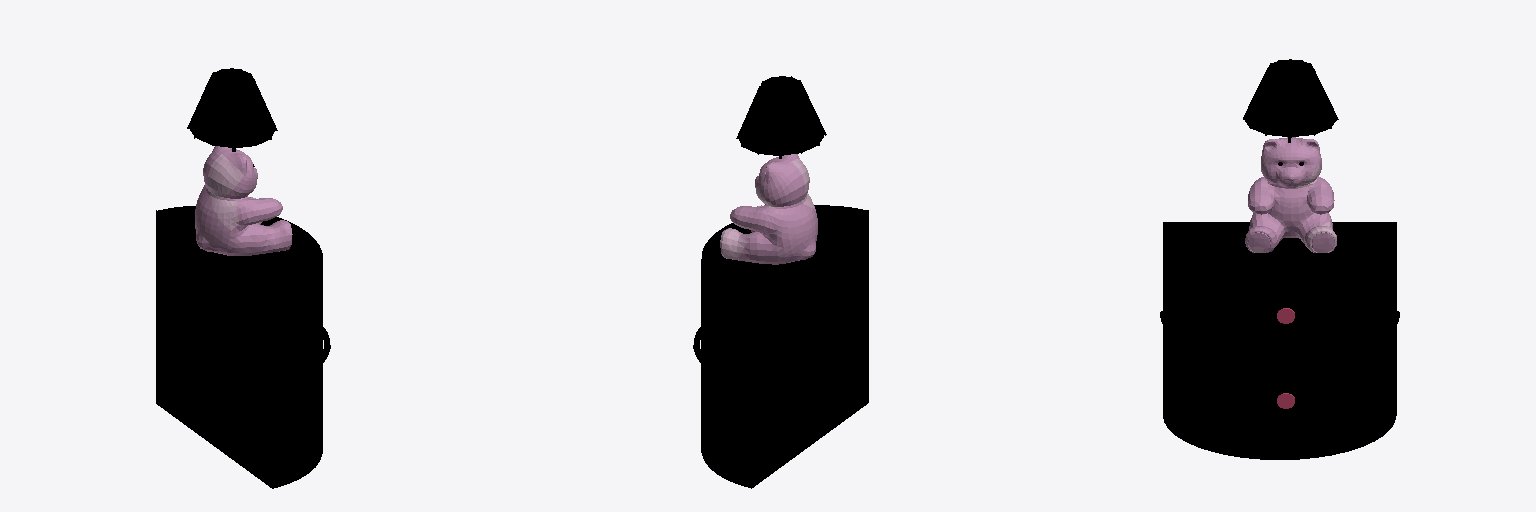
3 views of the same model, side by side, from view 1: azimuth 30°, elevation 25°; view 2: azimuth 150°, elevation 25°; view 3: azimuth 270°, elevation 25° (orthographic).
Visible parts, largest first — view 1: polySurface89; view 2: polySurface89; view 3: polySurface89.
Boxes of the visible parts, box(x1,y1,x2,y2) form: polySurface89: box(156, 68, 330, 488); polySurface89: box(693, 76, 868, 488); polySurface89: box(1160, 59, 1399, 459).
Size of the model in its own units: 0.8726 by 2.61 by 1.59.
Materials: 8 (3 with a texture image).